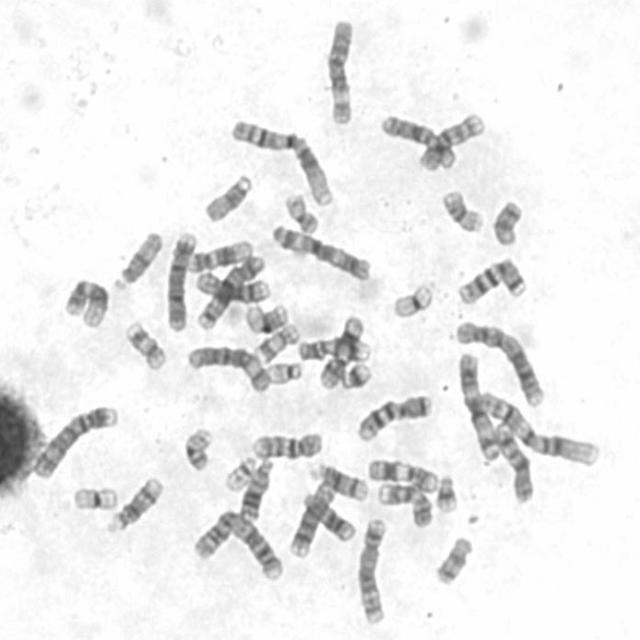A1: (473, 387, 601, 468), (226, 114, 336, 208)
A2: (452, 316, 546, 408), (188, 504, 286, 582)
A3: (266, 219, 374, 283), (454, 348, 502, 461)
B4: (29, 399, 119, 481), (162, 227, 199, 333)
B5: (192, 249, 268, 332), (353, 513, 390, 626)
C10: (414, 107, 486, 173), (248, 427, 325, 461)
C11: (315, 311, 366, 391), (363, 454, 441, 493)
C12: (60, 272, 111, 330), (183, 234, 254, 274)
C6: (183, 340, 272, 395), (322, 12, 358, 126)
C7: (352, 388, 436, 444), (454, 252, 529, 306)
C8: (285, 474, 338, 559), (191, 267, 272, 303)
C9: (374, 478, 436, 530), (292, 332, 378, 369)
D13: (298, 486, 357, 544), (235, 453, 276, 522)
D14: (102, 471, 165, 535), (305, 458, 370, 503)
D15: (110, 226, 164, 292), (200, 169, 254, 224)
E16: (438, 185, 486, 234), (240, 298, 290, 335)
E17: (121, 316, 169, 372), (252, 318, 302, 366)
E18: (431, 531, 475, 587), (488, 195, 525, 248)
F19: (388, 278, 436, 320), (67, 480, 120, 513)
F20: (280, 187, 321, 235), (179, 423, 214, 473)
G21: (336, 357, 374, 392), (432, 469, 460, 515)
G22: (220, 451, 258, 493), (264, 357, 304, 386)
X: (376, 109, 458, 171), (490, 420, 536, 505)
